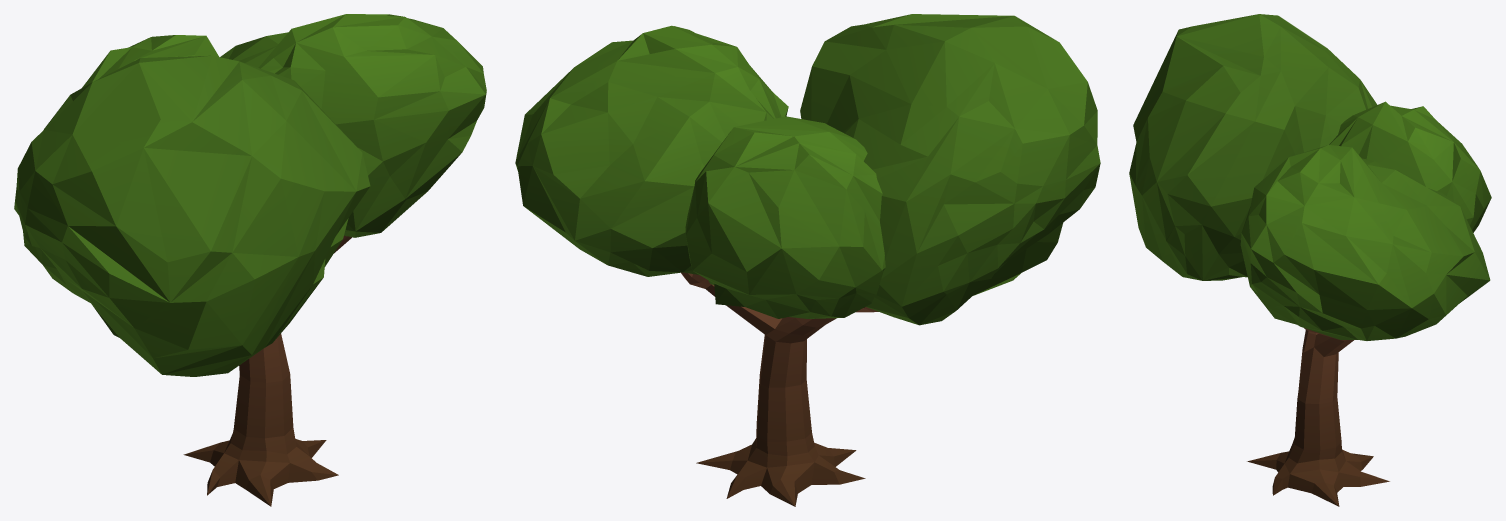
The model's file is Tree 3_Shiqi.glb.
3 renders of one model, left to right at view 1: azimuth 30°, elevation 25°; view 2: azimuth 150°, elevation 25°; view 3: azimuth 270°, elevation 25°, orthographic. The views are drawn at different scales.
Visible parts, largest first — view 1: Tree 3; view 2: Tree 3; view 3: Tree 3.
Part boxes in pixels (box(x1,y1,x2,y2)): Tree 3: box(14, 14, 486, 506); Tree 3: box(515, 14, 1100, 506); Tree 3: box(1129, 14, 1491, 506).
Bounding box in the file's own units: 30.09 × 27.4 × 22.74.
Materials: 1 (1 with a texture image).
